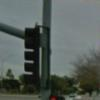traffic lights: (22, 23, 42, 90)
